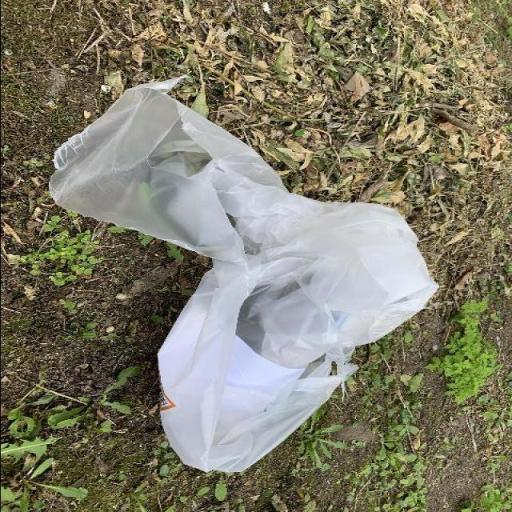polythene: (49, 90, 437, 470)
